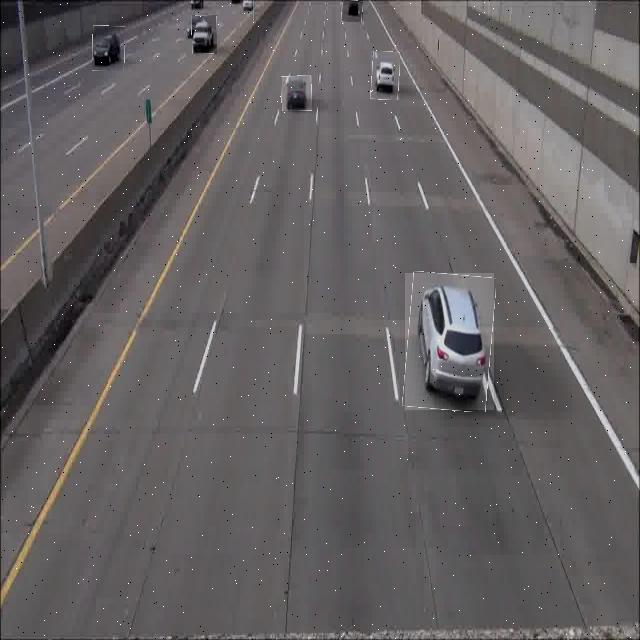Car: (405, 273, 494, 410), (93, 26, 125, 71), (371, 52, 400, 100), (282, 76, 312, 111), (192, 15, 217, 54), (342, 0, 363, 22)
